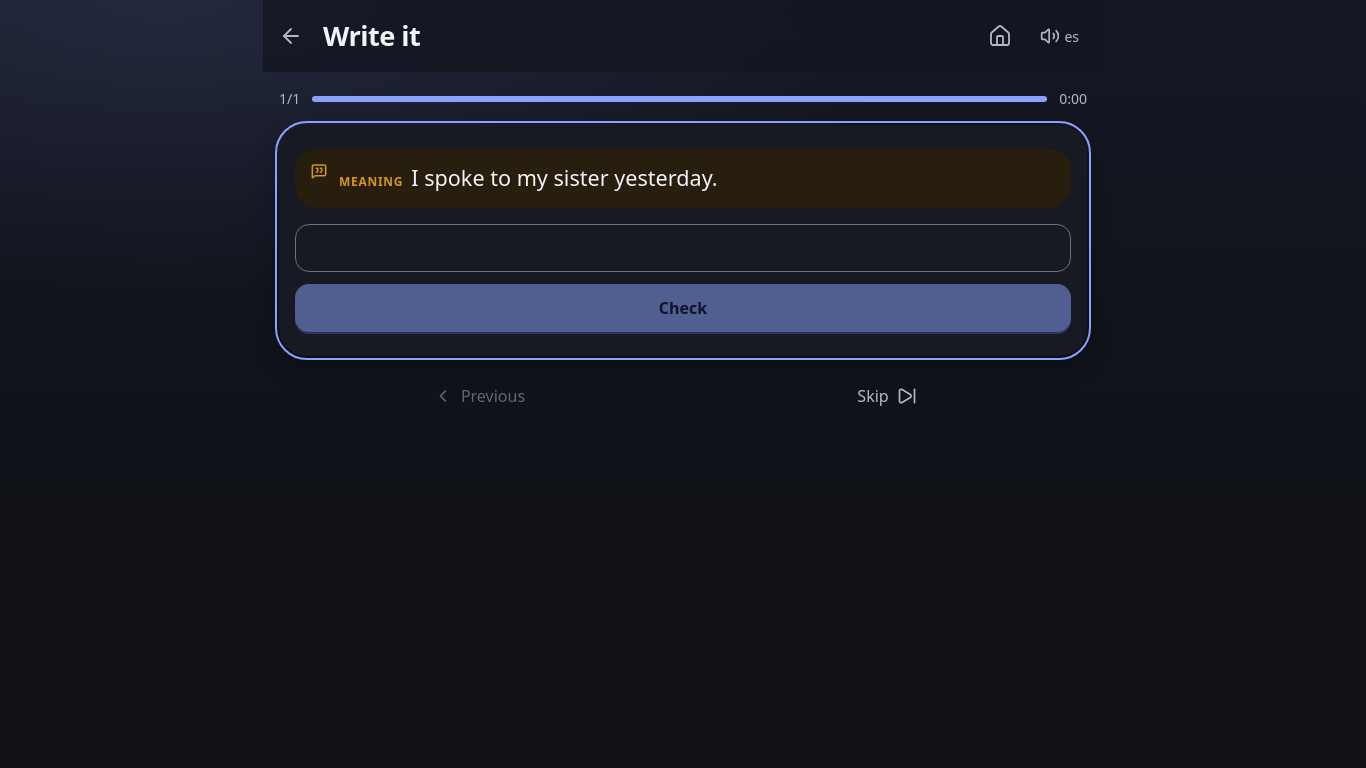
Test: the typed-answer card › names the axis that slipped, not only the answer
This screenshot has width=1366, height=768.
Step 1. Type "Ayer hablo con mi hermana" into the field → point(683, 248), box [295,224,1071,272]
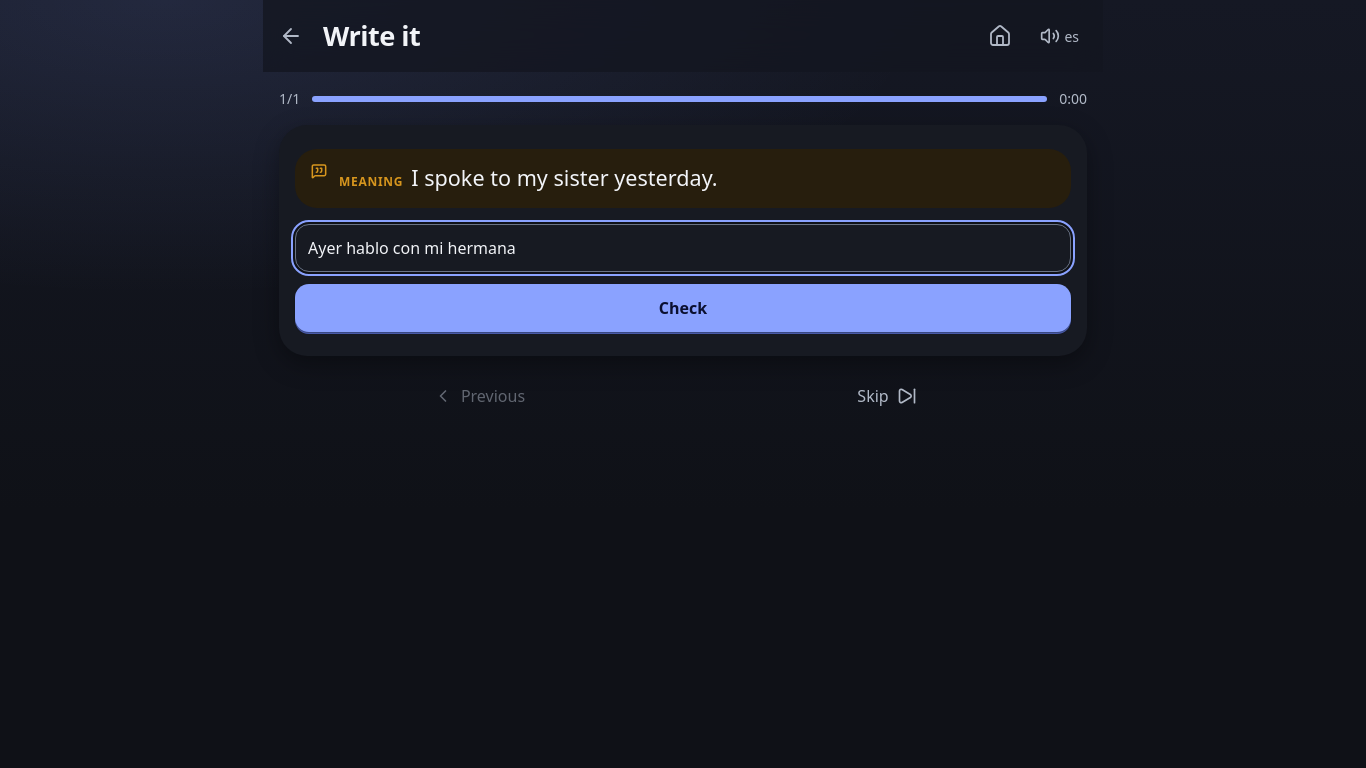
Step 2. Click the button "Check" → point(683, 308), box [295,284,1071,332]
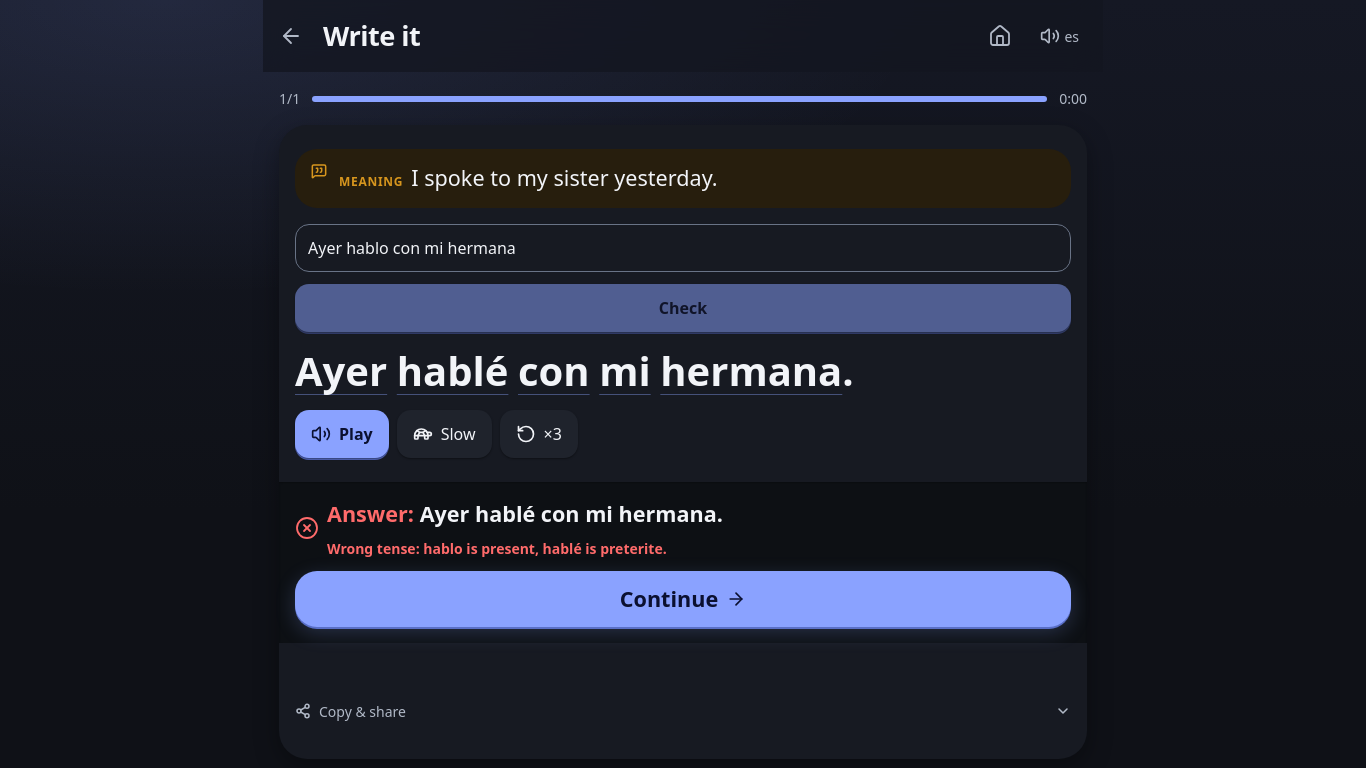
Expected: the message shows "Wrong tense: hablo is present, hablé is preterite.", [295,498,723,559]
